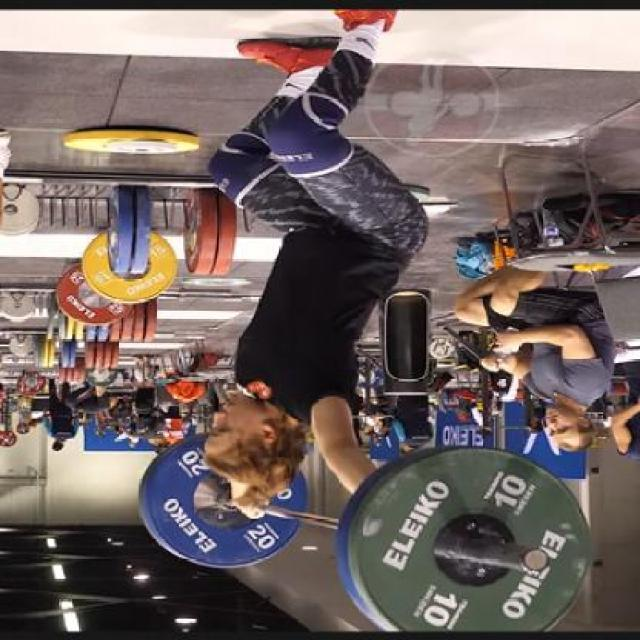Barbell: (517, 544, 557, 578)
